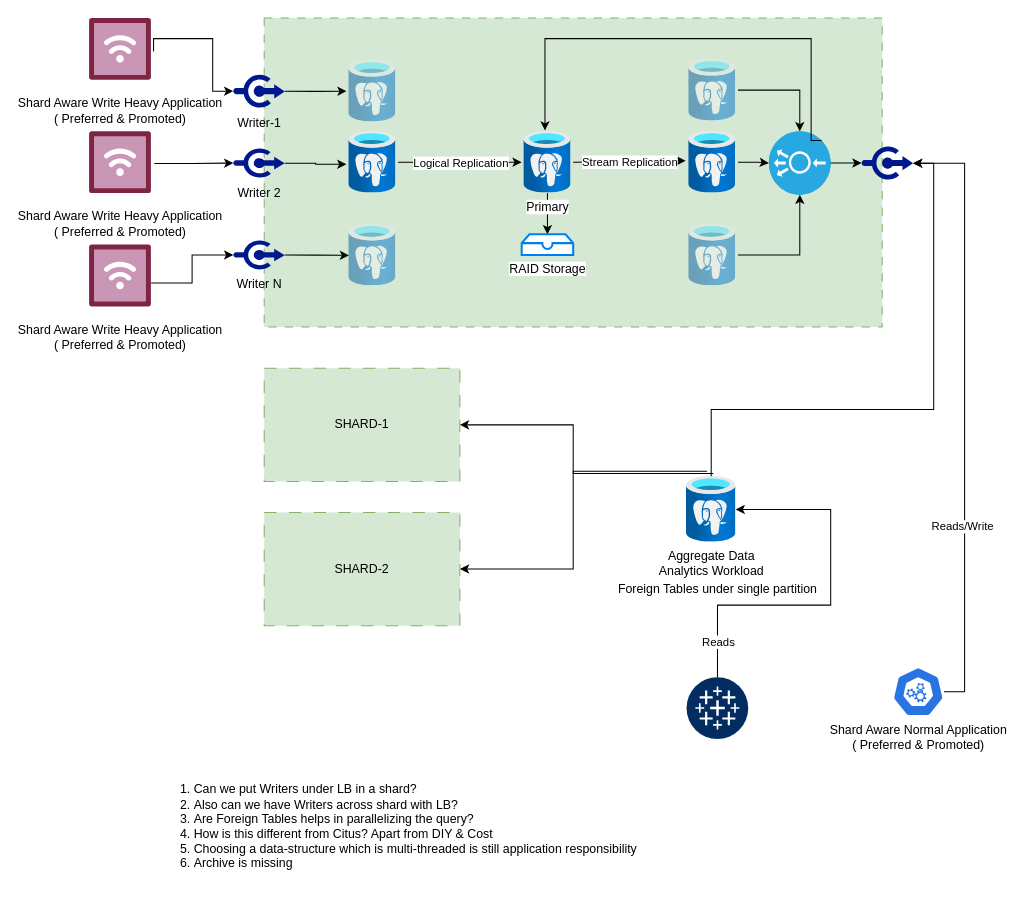
Some shapes in this 1024 by 906 pixel diagram are drawn without their labels. The box of each missing label's shape, as (x1, y1, x2, y2) in pixels:
PG-Pool: (768, 130, 831, 195)
Reader H-Scaled: (686, 131, 737, 193)
Reader Primary Writer: (861, 145, 913, 180)
Shard Un-aware Analytics Application: (685, 676, 748, 739)
SHARD-N: (263, 17, 882, 327)
Writer H-Scaled: (346, 131, 398, 193)
